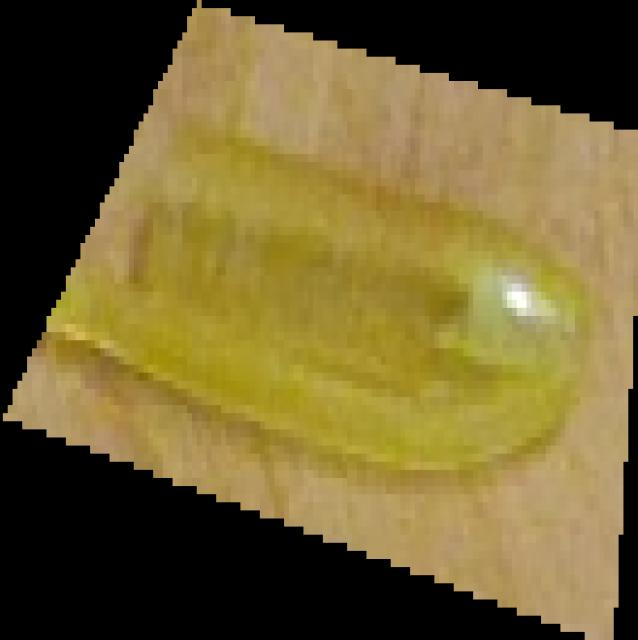yellow: (1, 0, 638, 640)
